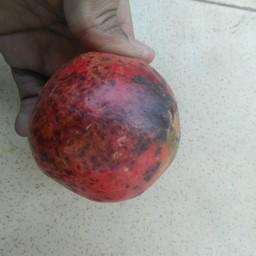Bad_pomegranate: (22, 42, 190, 206)
